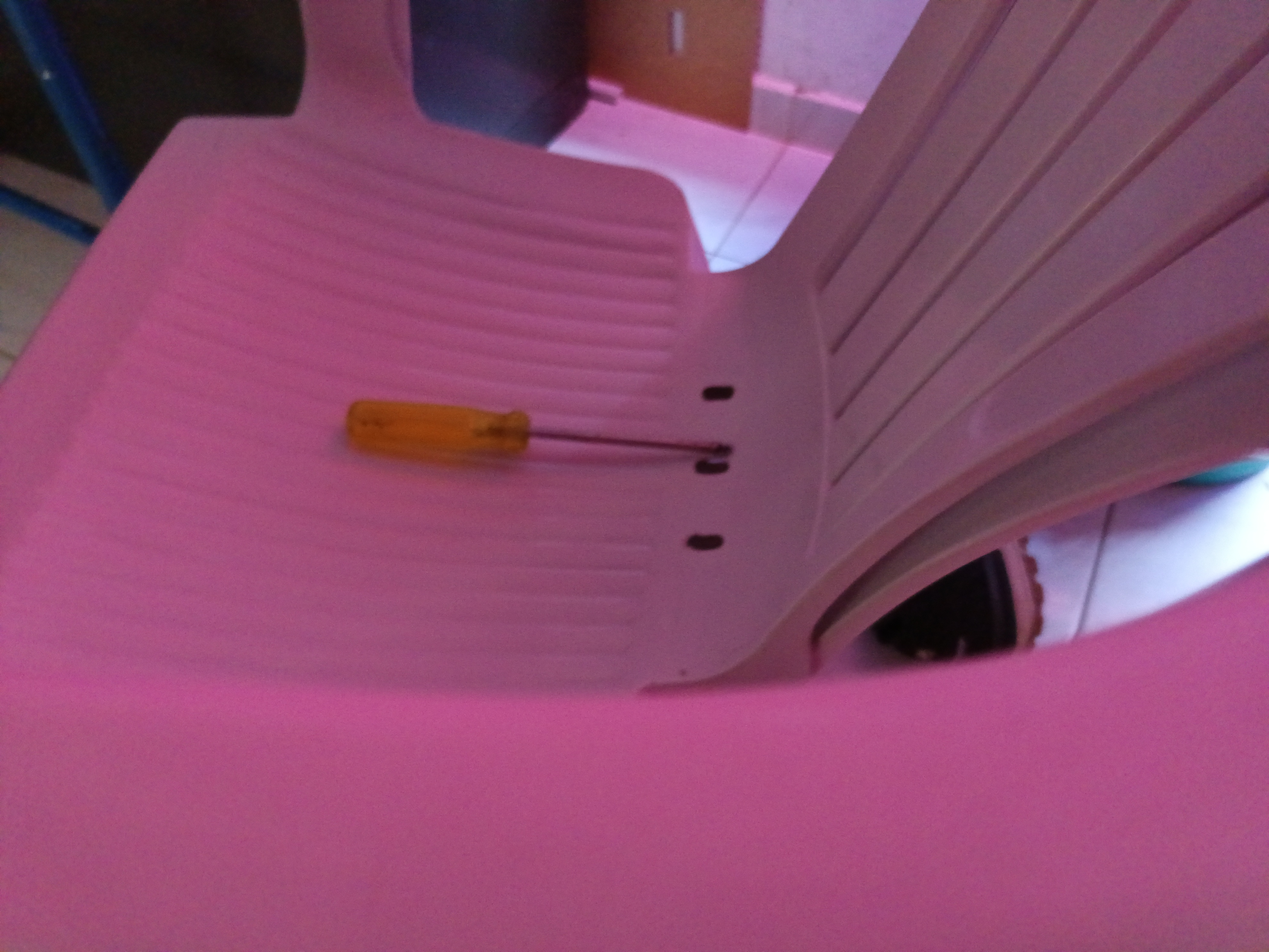Destornillador: (345, 400, 732, 458)
